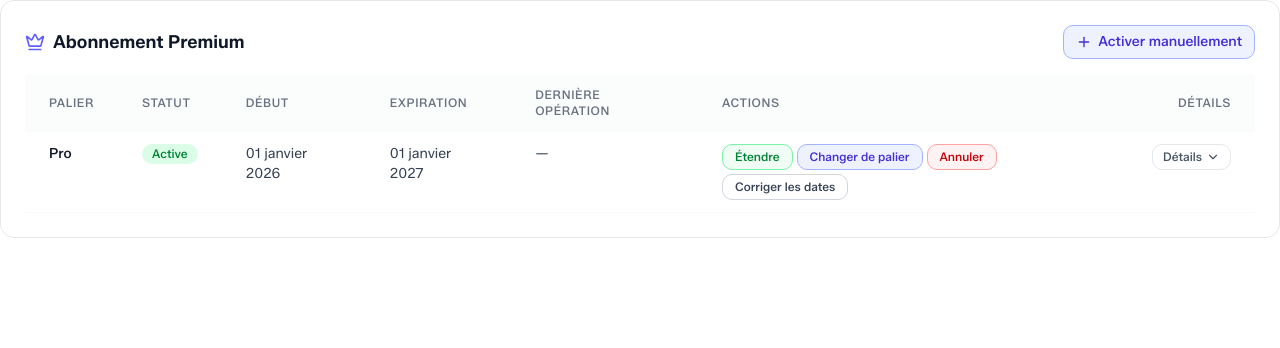
AdminFaceSubscriptionSection › does not crash when a subscription has an invalid currency code
Note: The paid amount lives in the row drill-down panel (FP-2.16).
Click the button with test id "subscription-expand-sub-bad-currency".
click(1192, 157)  # box [1152,144,1231,170]
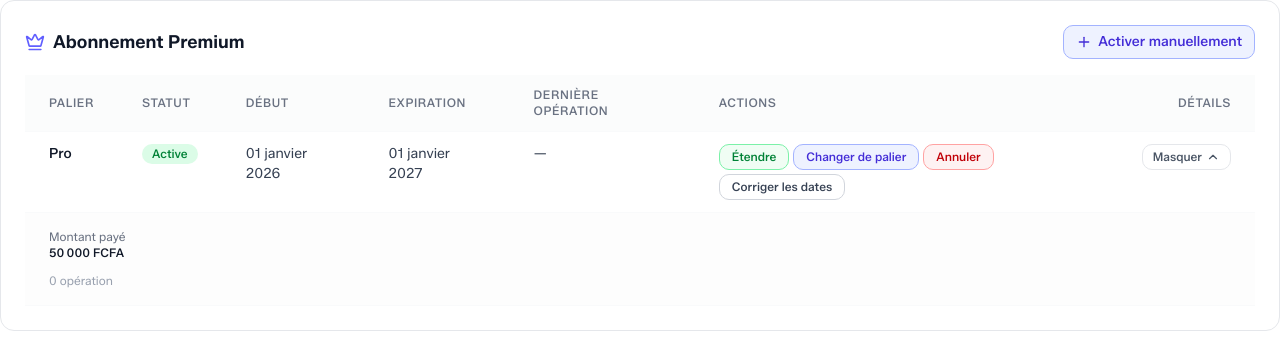
Expected: the row with test id "subscription-detail-sub-bad-currency" shows "FCFA", [49,245,124,260]
Expected: the row with test id "subscription-detail-sub-bad-currency" shows "50", [49,245,124,260]
